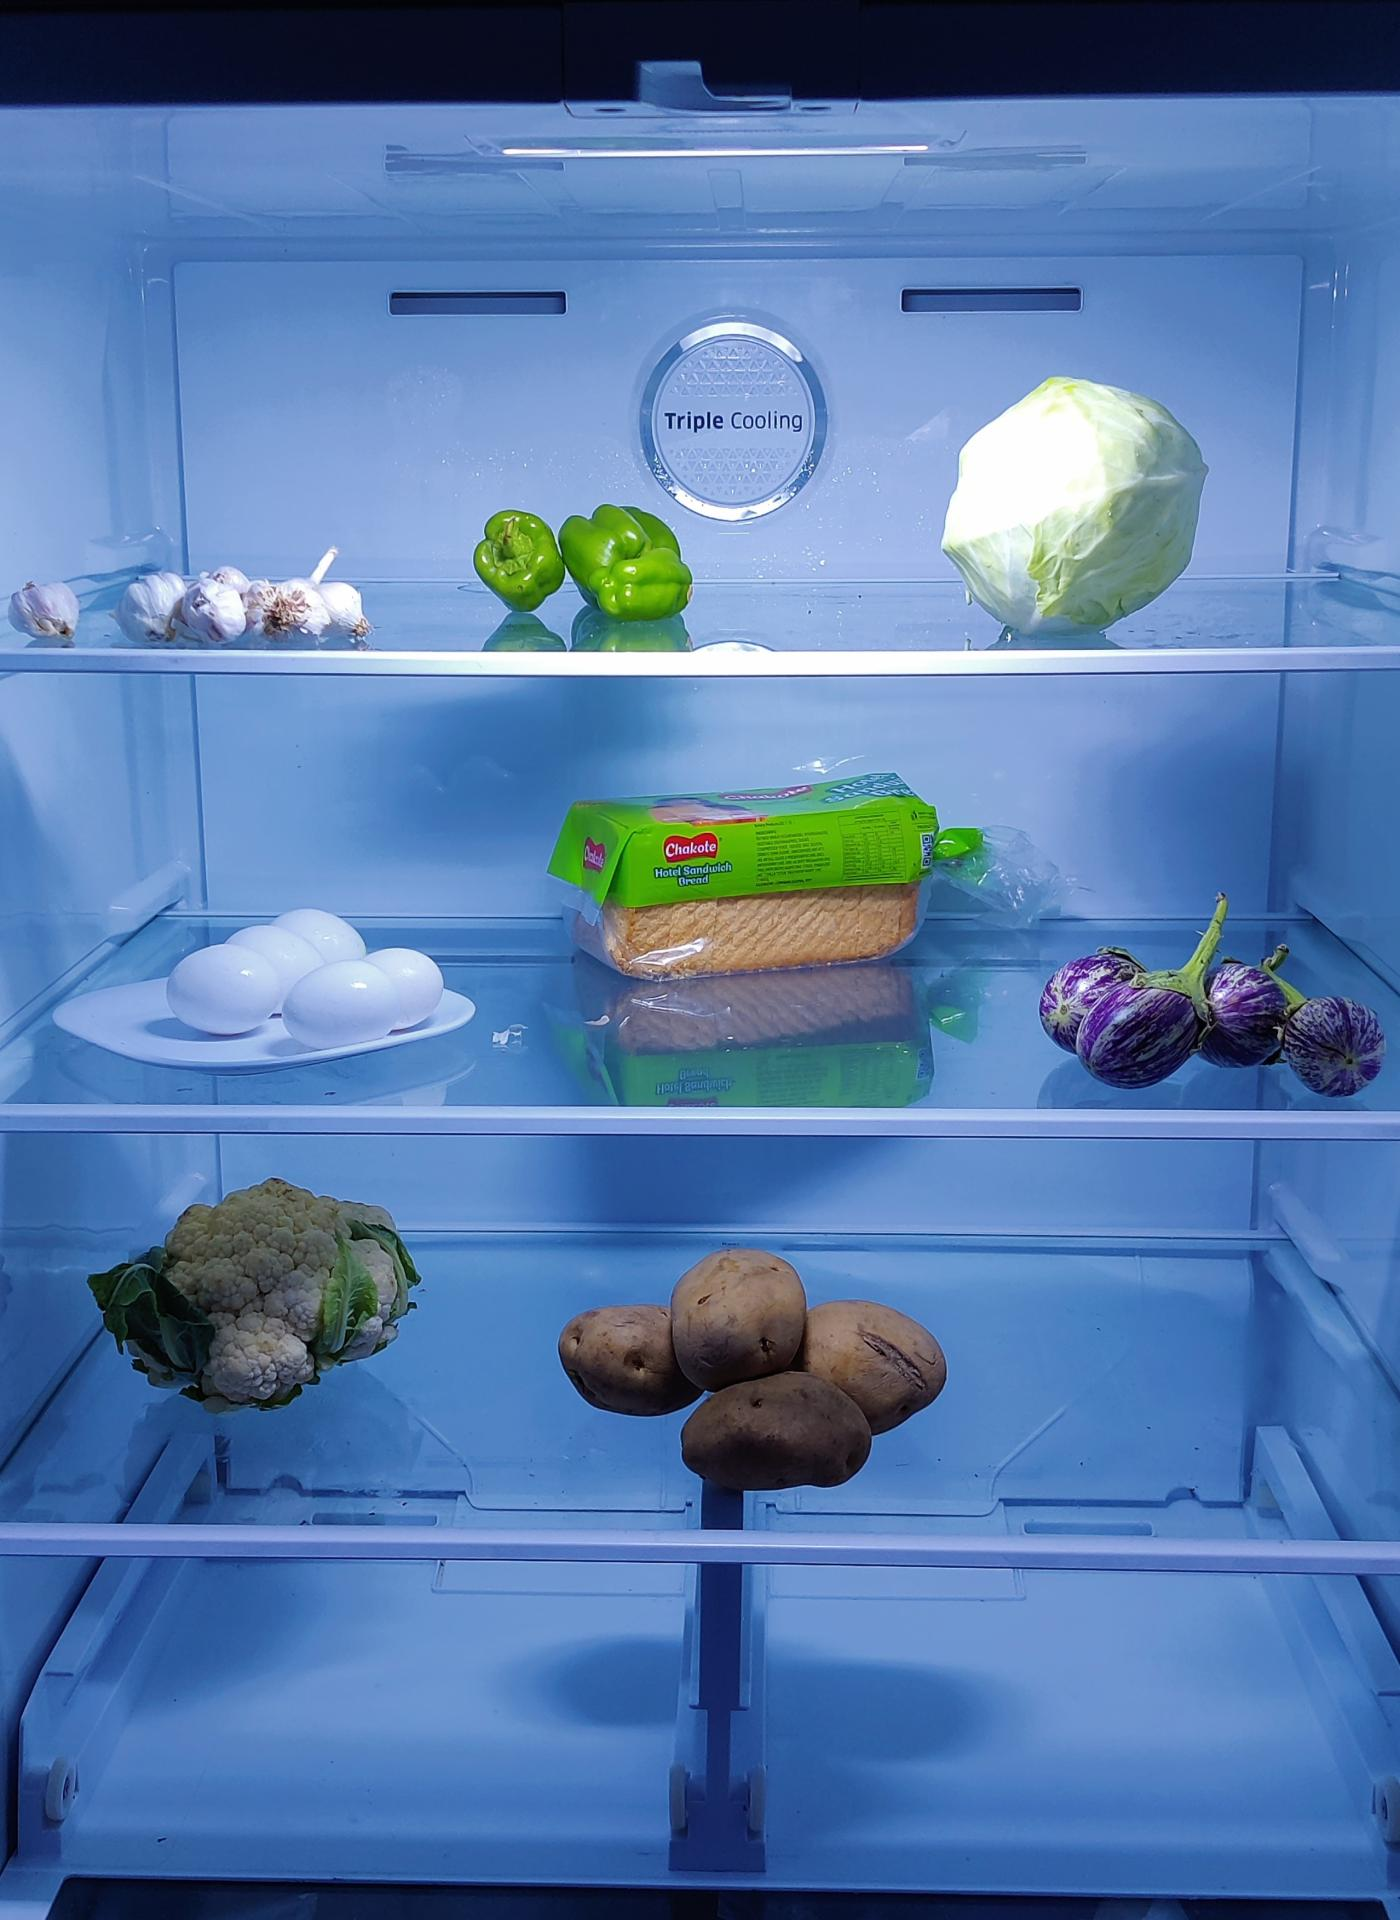bread: (555, 769, 960, 979)
brinjal: (1039, 933, 1376, 1094)
cabbage: (938, 370, 1205, 631)
capsicum: (471, 505, 698, 634)
cauliflower: (100, 1170, 425, 1410)
egg: (154, 891, 452, 1049)
garlic: (122, 550, 370, 653)
potato: (555, 1234, 950, 1486)
